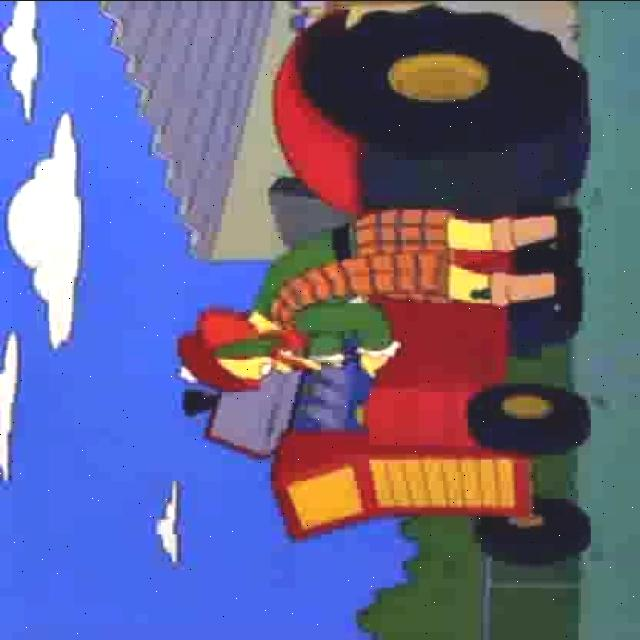Groundskeeper Willie: (192, 306, 322, 381)
